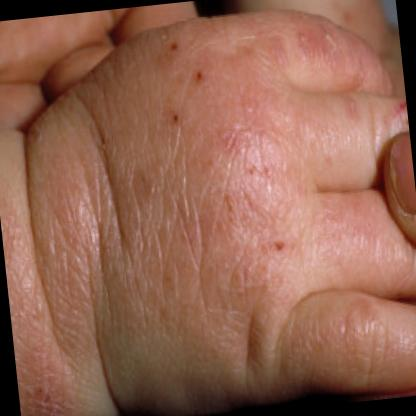Eczema: (213, 183, 243, 224), (32, 383, 56, 410), (255, 154, 277, 182), (188, 67, 209, 90), (240, 159, 260, 180), (162, 38, 183, 56), (270, 235, 287, 254), (165, 110, 184, 126)
